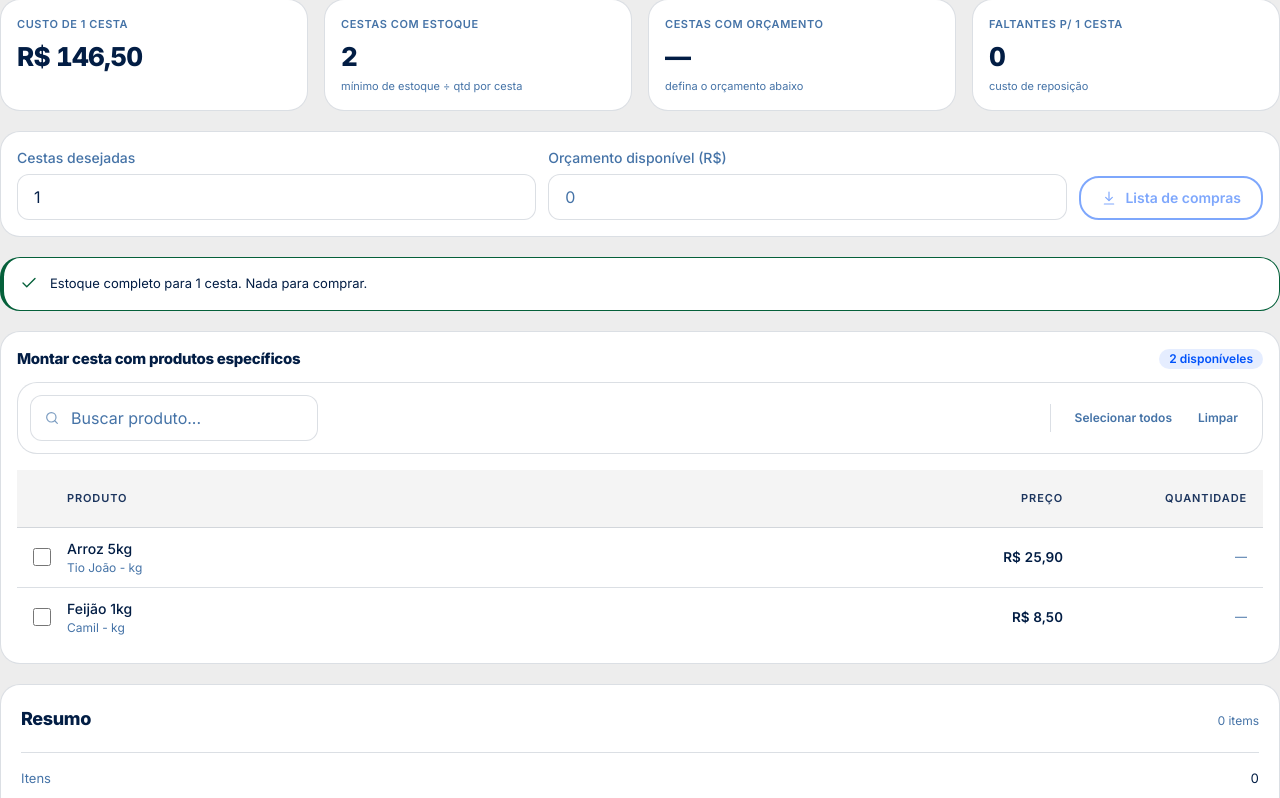
Test: SimuladorClient › MONTAGEM DE CESTA (fluxo original) › permite alterar quantidade do produto selecionado
The width and height of the screenshot is (1280, 798).
Click the checkbox labelled "Arroz 5kg Tio João - kg".
click(42, 557)  # box [33, 548, 51, 566]
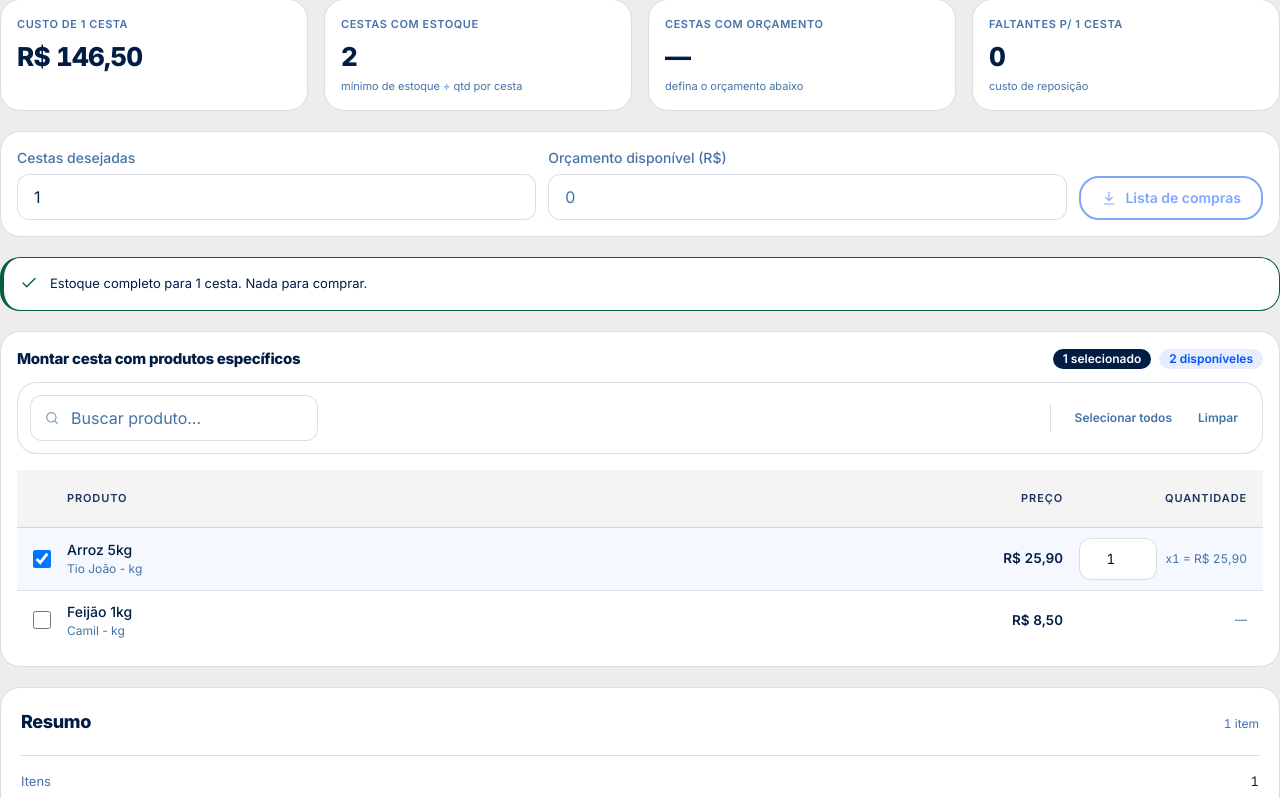
Result: the number field named "Quantidade de Arroz 5kg" is shown
Replace the text in the number field named "Quantidade de Arroz 5kg" with "3" at (1118, 558), box [1079, 538, 1157, 580]
(page scrolled)
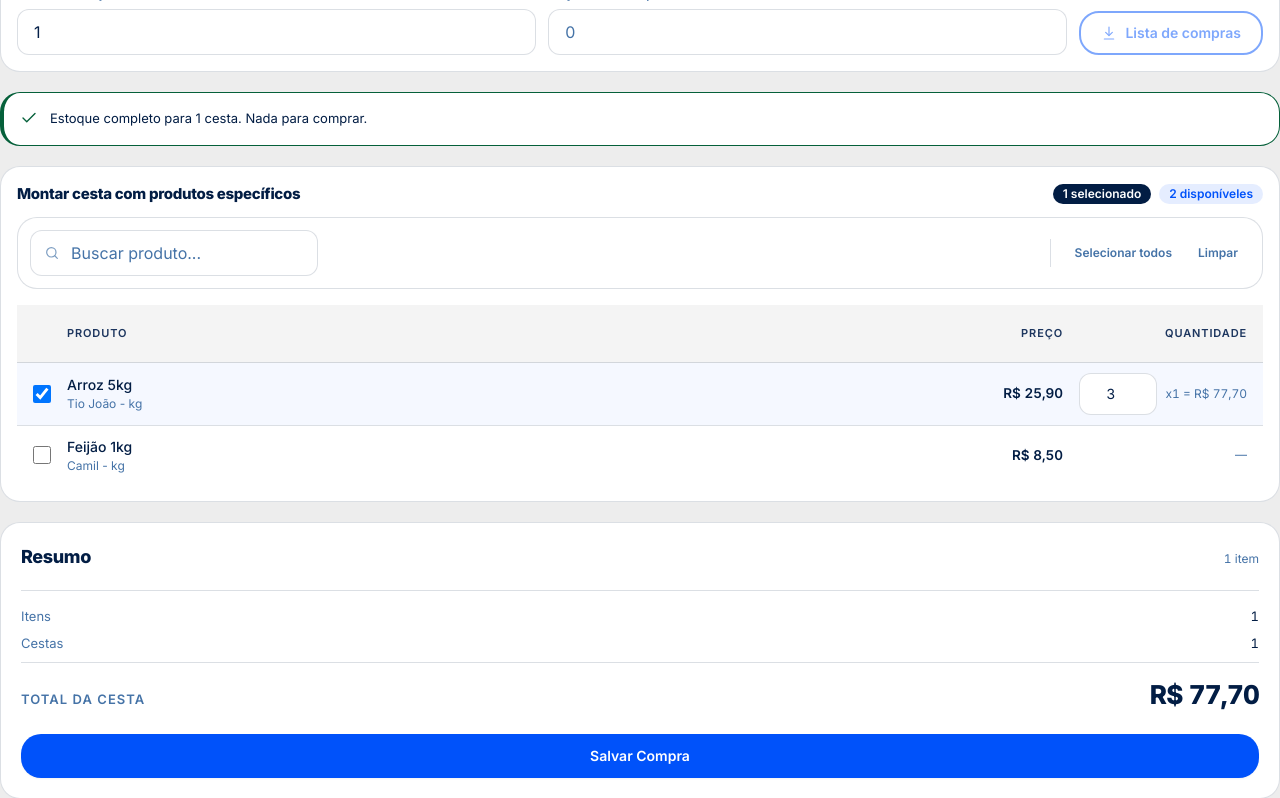
Result: the text "R$ 77,70" is shown at [1150, 674, 1259, 714]
